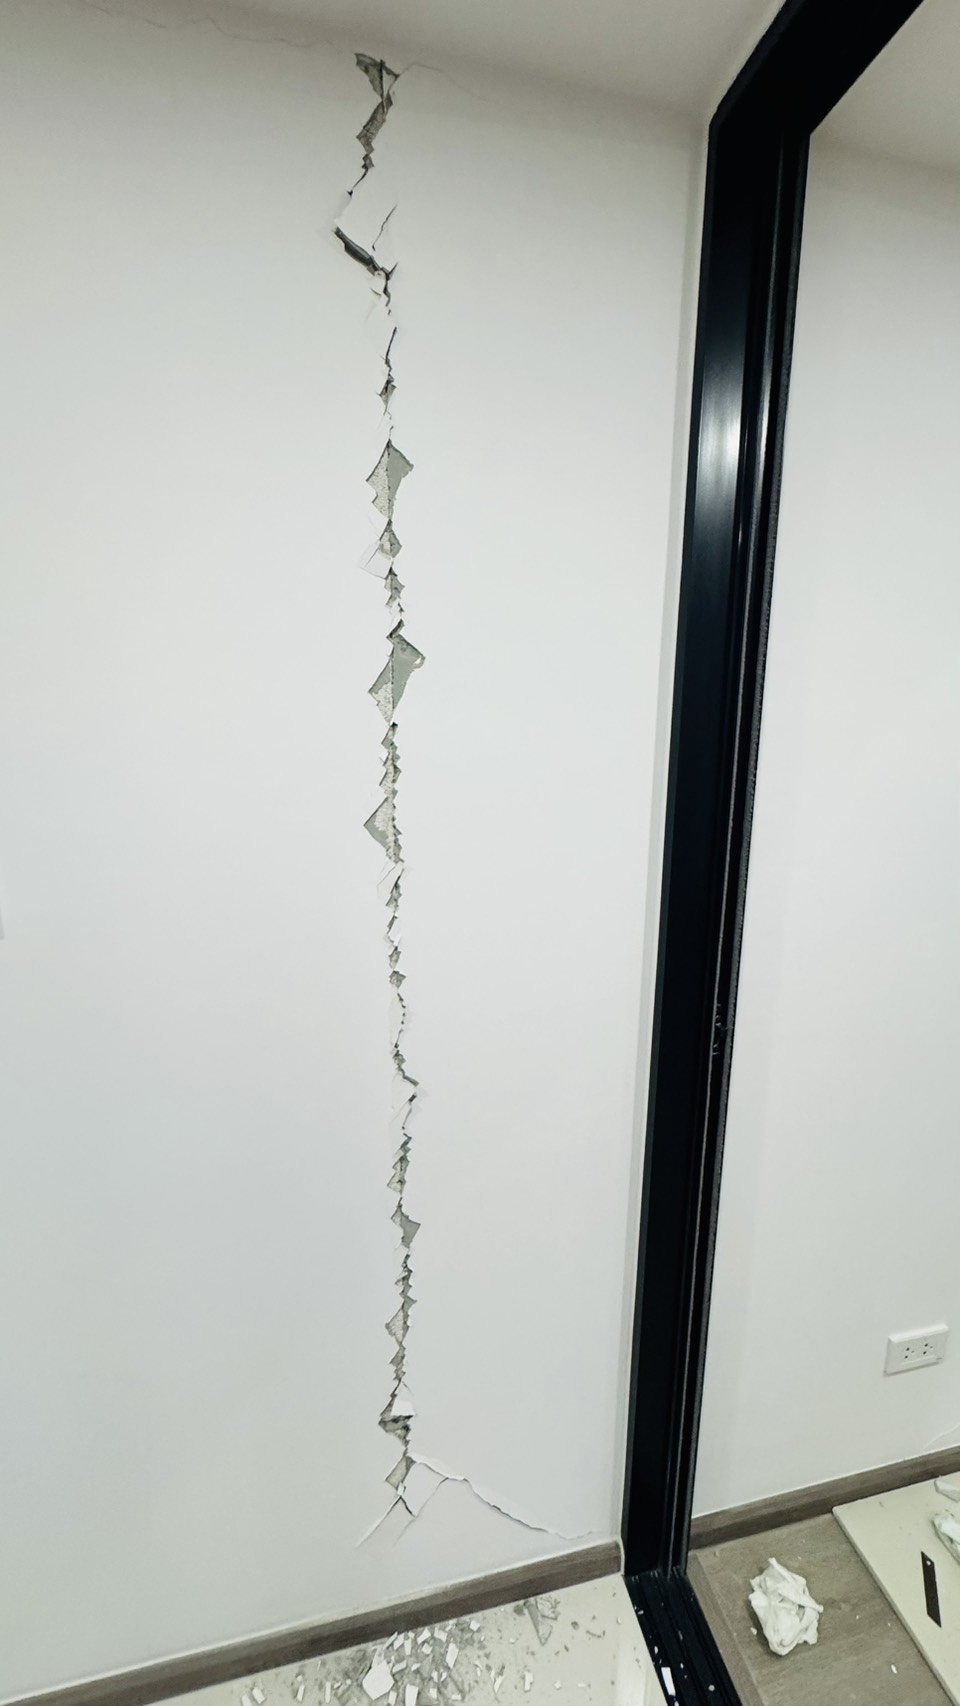Low: (324, 62, 566, 1564)
